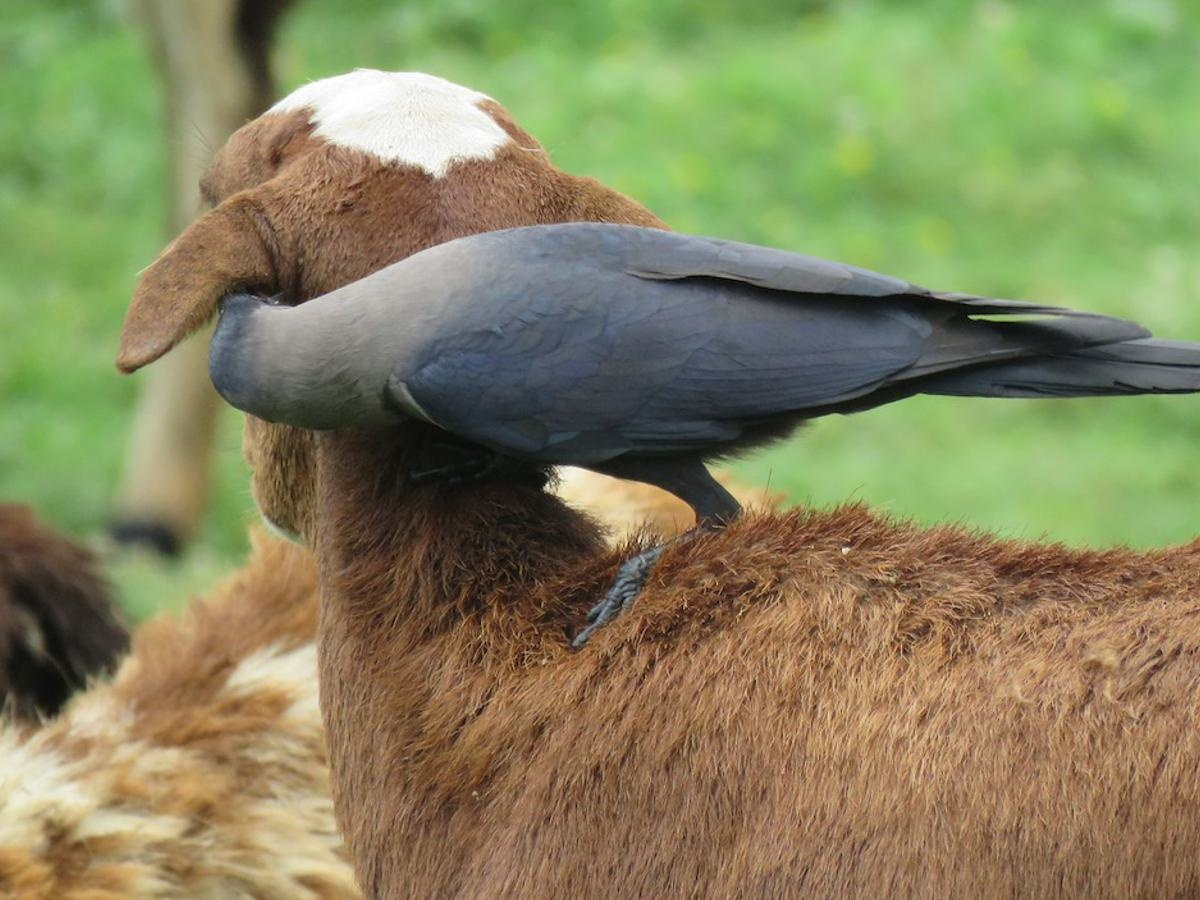crow: (203, 244, 1179, 542)
